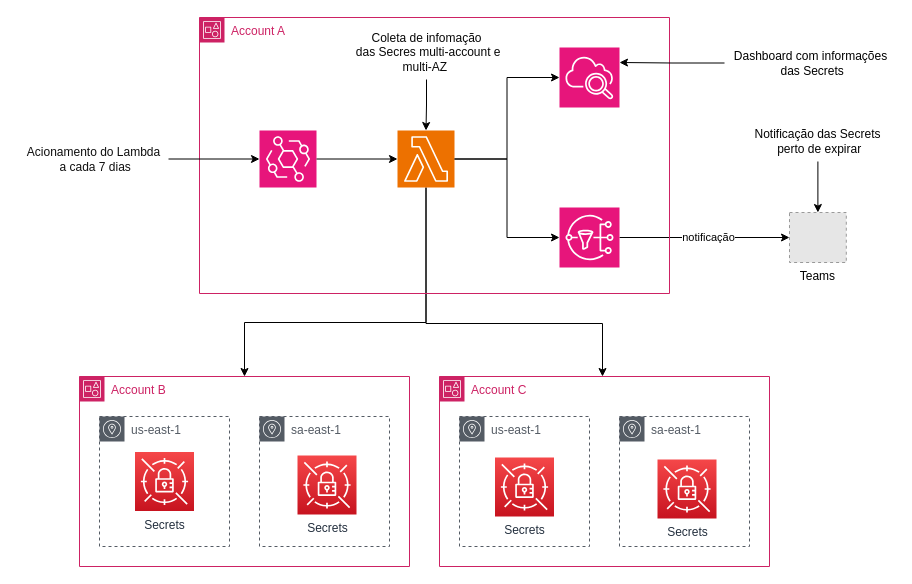
This 912x584 diagram has some shape labels left out. Grey dashed boxes stand in for pictures. The shapes that lost their labels are listed below. From the top down, each one's centre as x and y in pixels, then its label:
At (x=589, y=77): "Cloudwatch".
At (x=287, y=159): "Eventbridge".
At (x=425, y=159): "Lambda".
At (x=589, y=237): "SNS".
